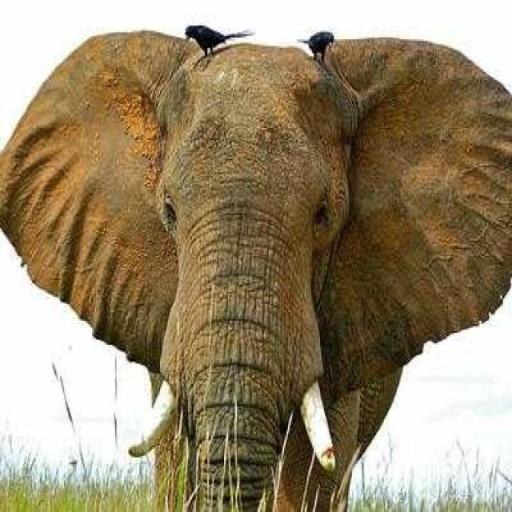Elephant: (0, 23, 510, 510)
